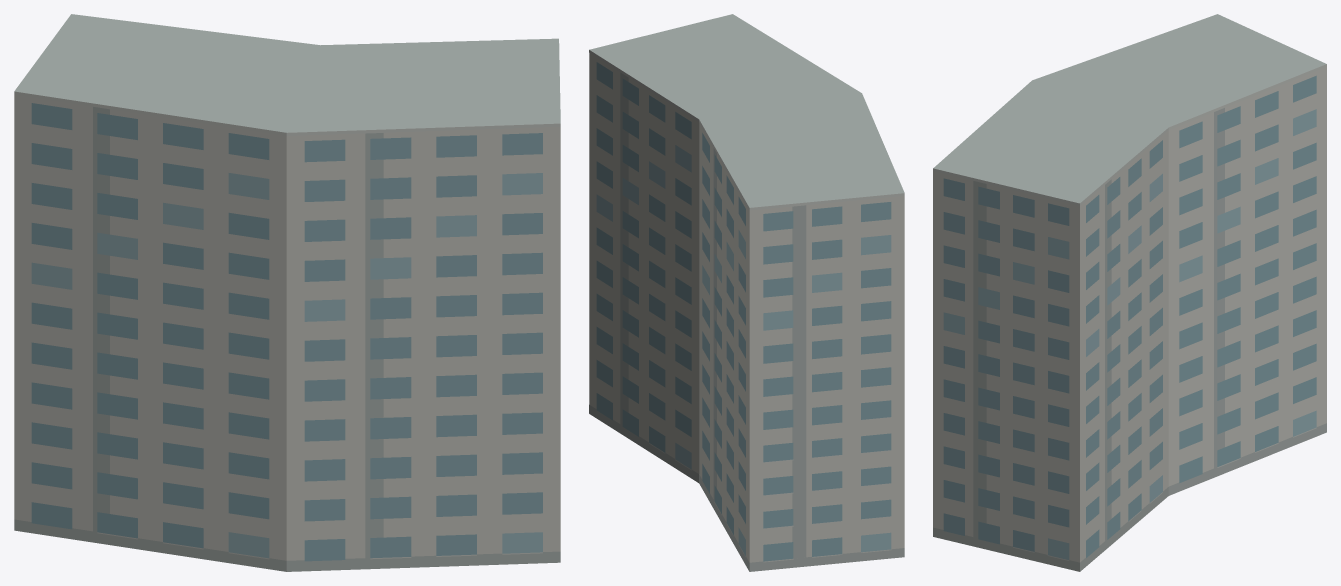
File: residential-14b82a4d-7545-4918-8203-e361e491dad7.glb
3 views of the same model, side by side, from view 1: azimuth 30°, elevation 25°; view 2: azimuth 150°, elevation 25°; view 3: azimuth 270°, elevation 25° (orthographic). The views are drawn at different scales.
Visible parts, largest first — view 1: residential-14b82a4d-7545-4918-8203-e361e491dad7.tmp; view 2: residential-14b82a4d-7545-4918-8203-e361e491dad7.tmp; view 3: residential-14b82a4d-7545-4918-8203-e361e491dad7.tmp.
Boxes of the visible parts, x1,y1,x2,y2 form: residential-14b82a4d-7545-4918-8203-e361e491dad7.tmp: (14, 14, 560, 571); residential-14b82a4d-7545-4918-8203-e361e491dad7.tmp: (589, 14, 904, 571); residential-14b82a4d-7545-4918-8203-e361e491dad7.tmp: (933, 14, 1326, 571).
Size of the model in its own units: 35.3 by 32 by 31.
